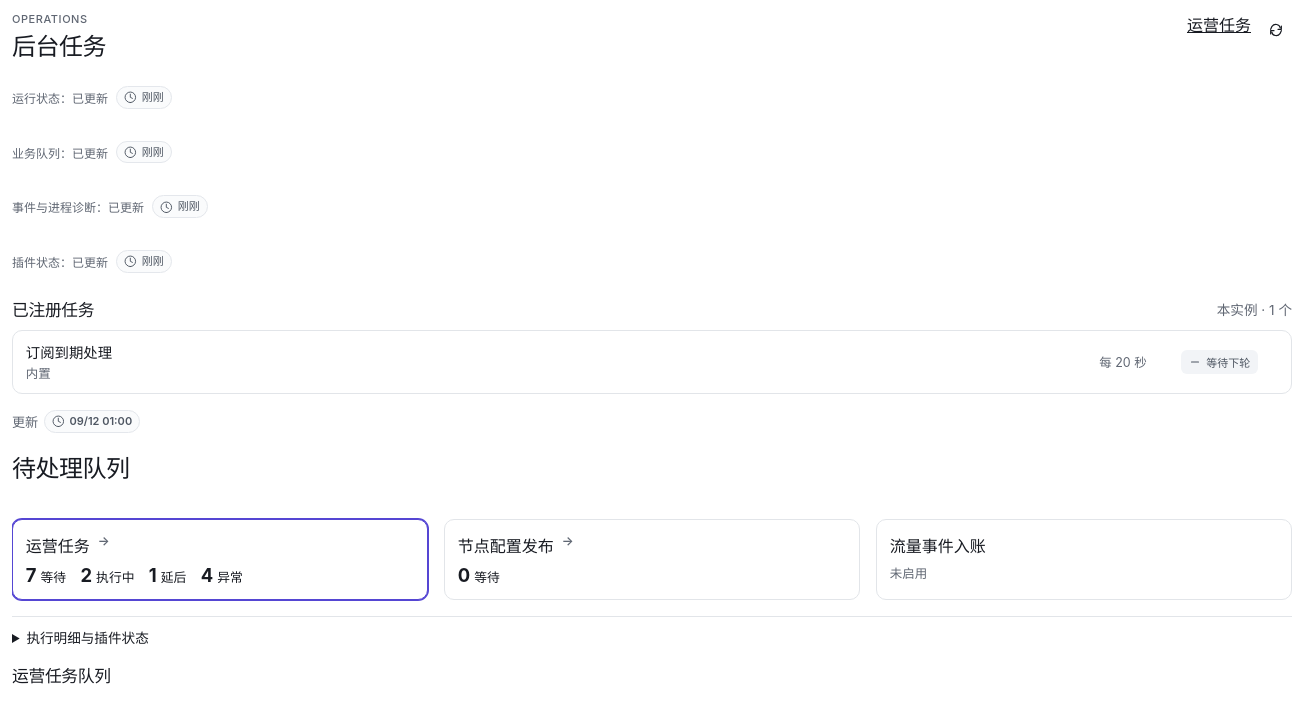
Test: retains previous queue counts and marks only that partition stale after a failed read
Step 1. Click the button named "刷新后台任务" → (1276, 30), box [1260,12,1292,48]
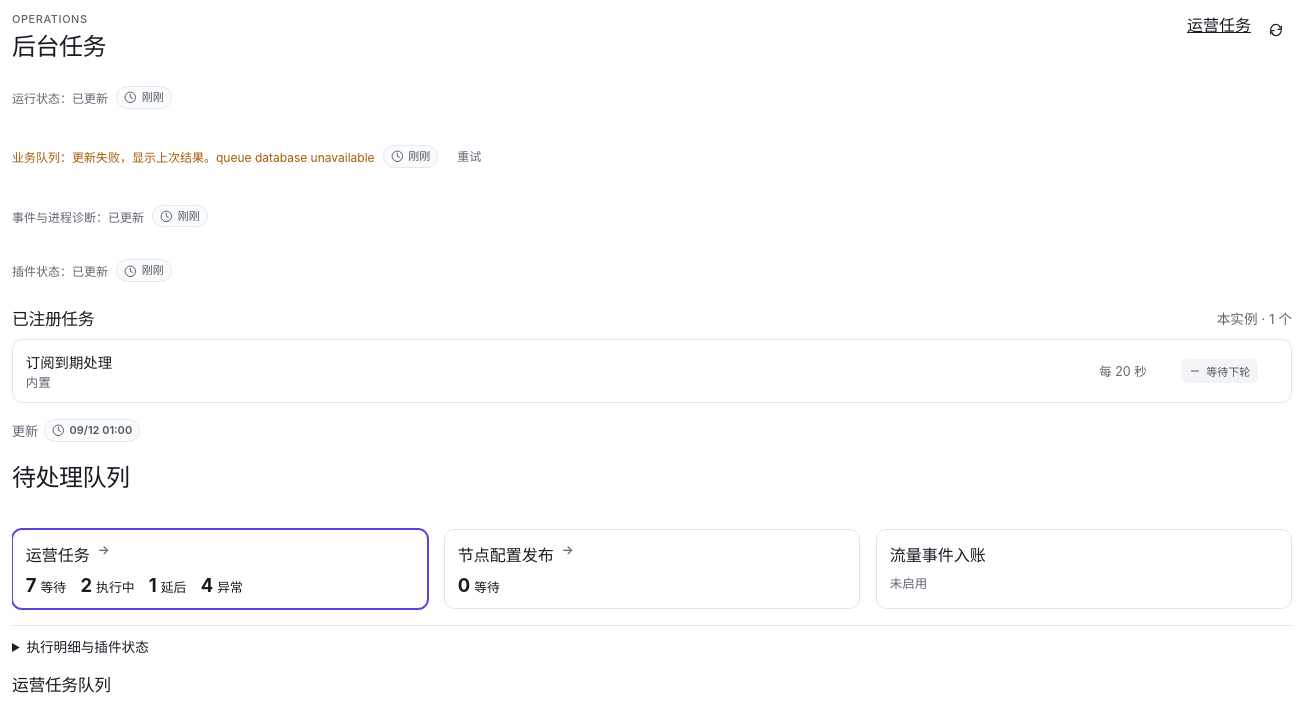
Check: the element named "业务待处理概览" shows "7", box [12,529,428,609]
Check: the text "更新失败，显示上次结果" is shown, box [12,150,375,165]
Check: the text "queue database unavailable" is shown, box [12,150,375,165]
